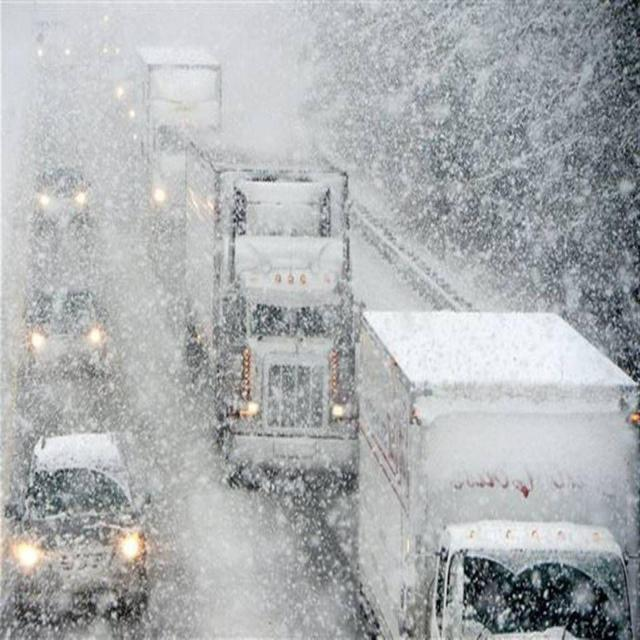Car: (7, 469, 157, 638), (24, 272, 110, 397), (37, 152, 95, 244), (104, 40, 150, 111)
Truck: (352, 305, 640, 640), (214, 154, 361, 489), (142, 53, 231, 244)
